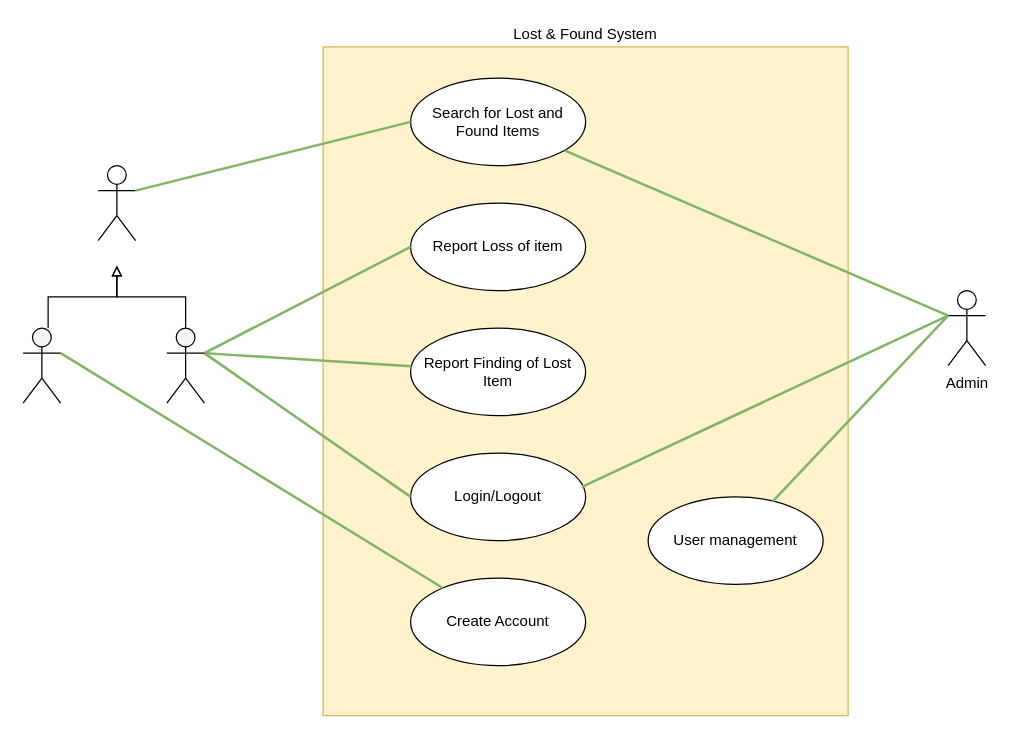
This 1010x738 diagram has some shape labels left out. The box of each missing label's shape, as (x1, y1, x2, y2) in pixels:
Guest: (22, 327, 61, 403)
Member: (166, 327, 204, 403)
User: (97, 164, 136, 241)
